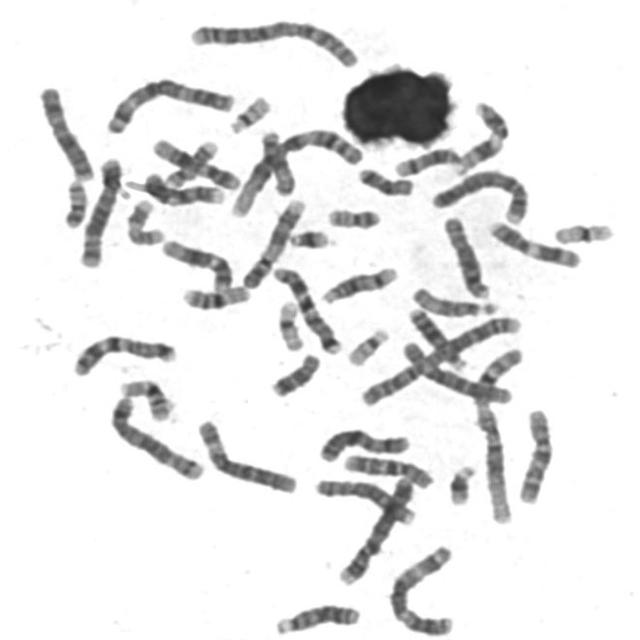A1: (224, 123, 368, 220), (468, 339, 526, 526)
A2: (356, 311, 525, 408), (183, 12, 363, 68)
A3: (100, 71, 238, 136), (384, 539, 459, 638)
B4: (333, 470, 419, 588), (427, 163, 532, 226)
B5: (104, 391, 208, 482), (72, 152, 126, 270)
C10: (512, 402, 558, 506), (339, 448, 437, 491)
C11: (482, 215, 585, 270), (450, 96, 511, 175)
C12: (148, 132, 243, 192), (156, 233, 235, 293)
C6: (192, 414, 301, 496), (396, 336, 517, 406)
C7: (268, 261, 345, 356), (68, 329, 180, 378)
C8: (308, 472, 418, 528), (437, 211, 493, 301)
C9: (237, 194, 308, 290), (138, 167, 226, 208)
D13: (403, 303, 471, 373), (270, 598, 364, 636)
D14: (316, 261, 402, 306), (390, 142, 466, 178)
D15: (407, 281, 501, 318), (256, 125, 298, 197)
E16: (115, 374, 177, 423), (177, 280, 254, 312)
E17: (162, 137, 220, 189), (120, 194, 168, 247)
E18: (266, 348, 324, 399), (353, 162, 416, 198)
F19: (271, 295, 307, 352), (550, 216, 618, 246)
F20: (323, 201, 384, 231), (58, 175, 90, 230)
G21: (444, 459, 479, 508), (284, 225, 333, 251)
G22: (342, 322, 392, 368), (224, 90, 274, 135)
X: (33, 80, 98, 183), (314, 423, 414, 464)
